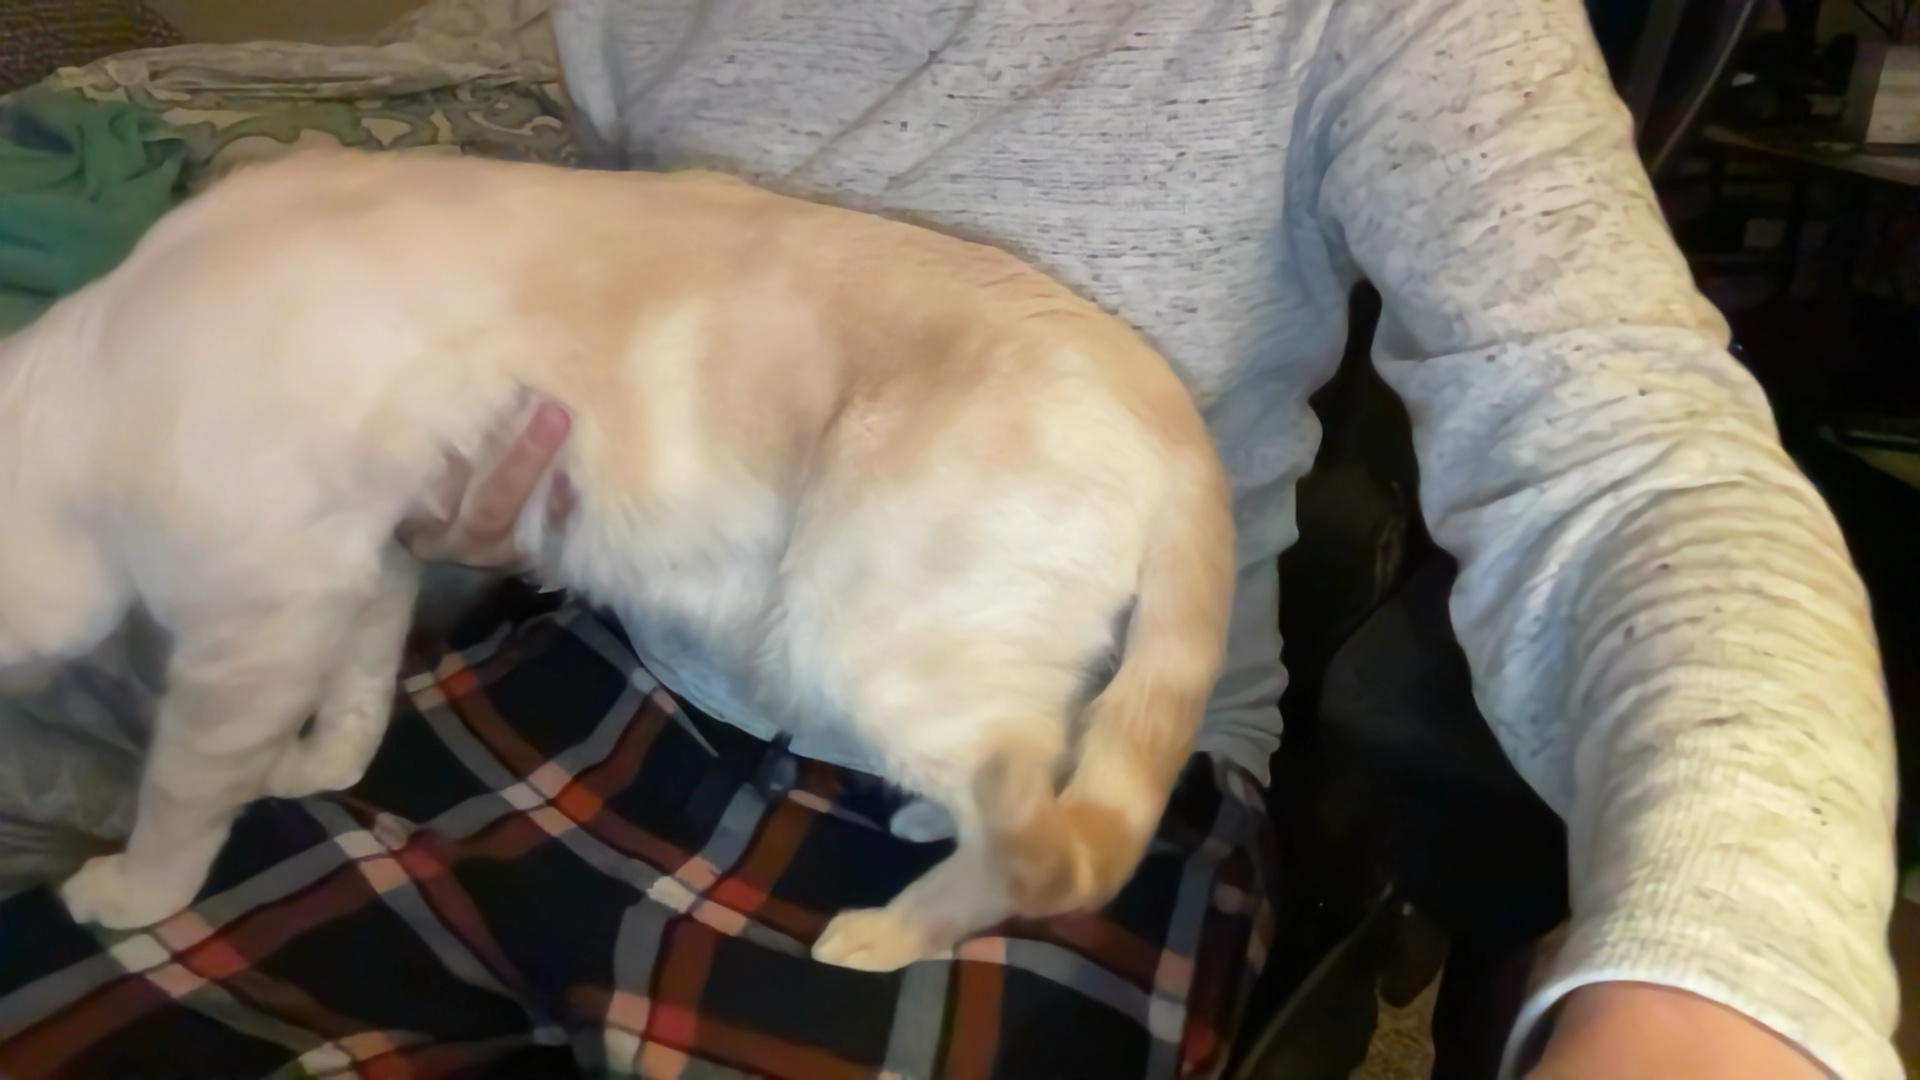cat: (7, 152, 1240, 975)
